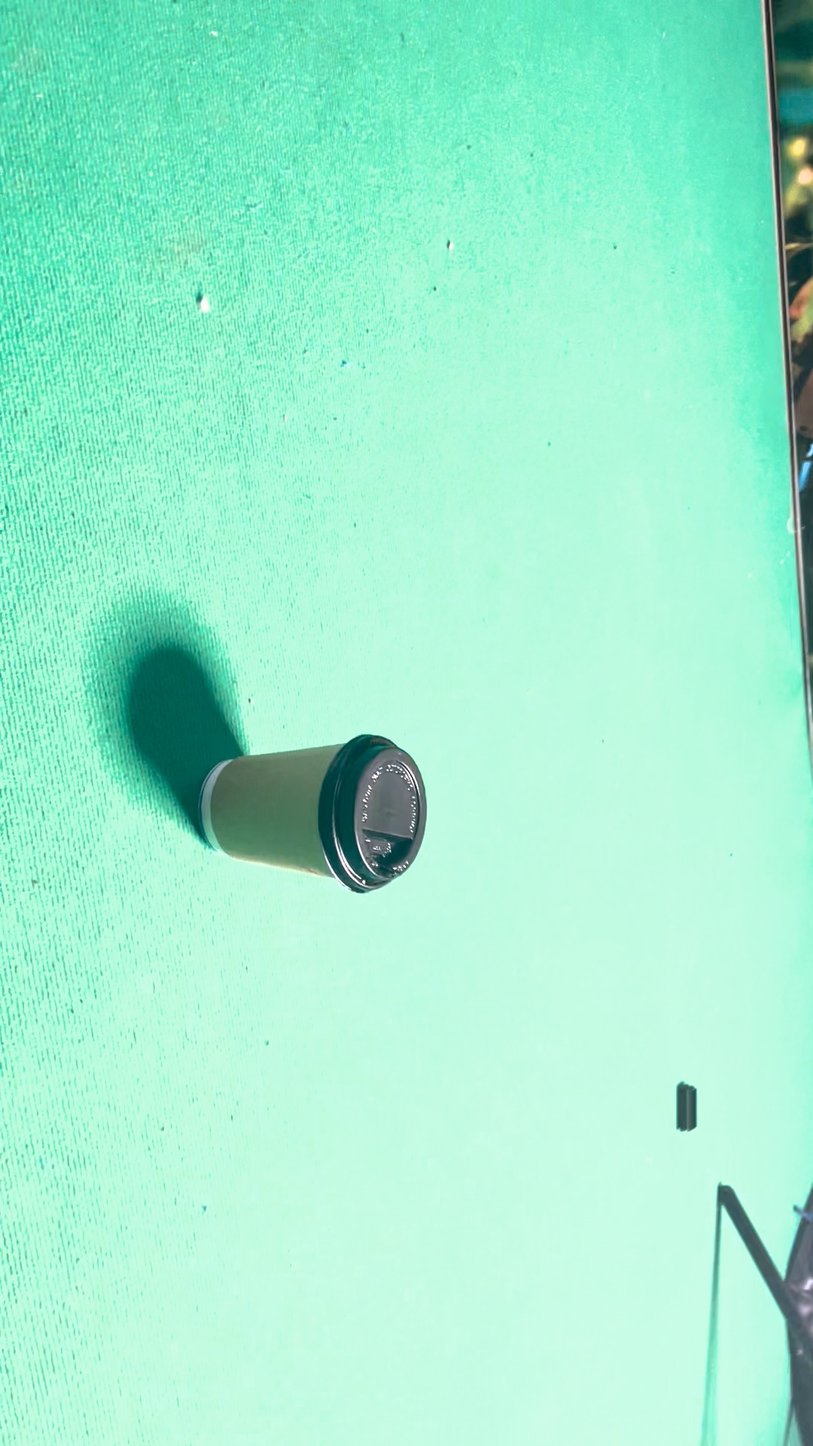cup: (406, 651, 485, 1024)
